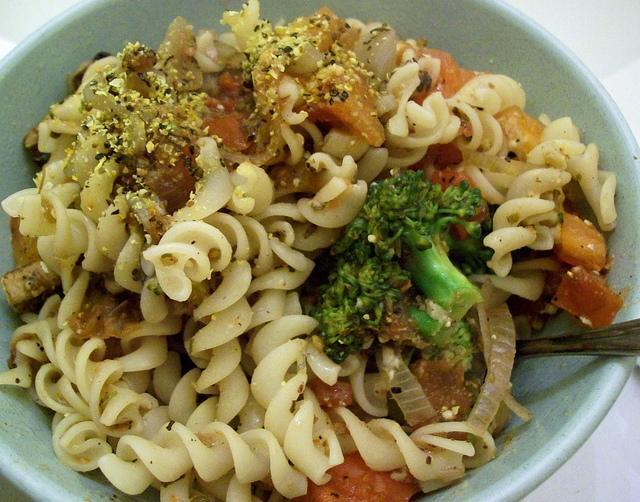broccoli: (307, 162, 483, 364)
onion: (466, 302, 516, 436), (375, 351, 437, 426), (352, 22, 397, 80), (195, 32, 238, 72), (284, 44, 324, 78)
tomato: (294, 70, 386, 147), (290, 450, 422, 502), (408, 360, 478, 440), (136, 139, 204, 216), (66, 272, 141, 341), (408, 49, 492, 106), (551, 265, 624, 329), (401, 144, 476, 192), (554, 215, 606, 271), (200, 114, 256, 152), (306, 378, 352, 409)
